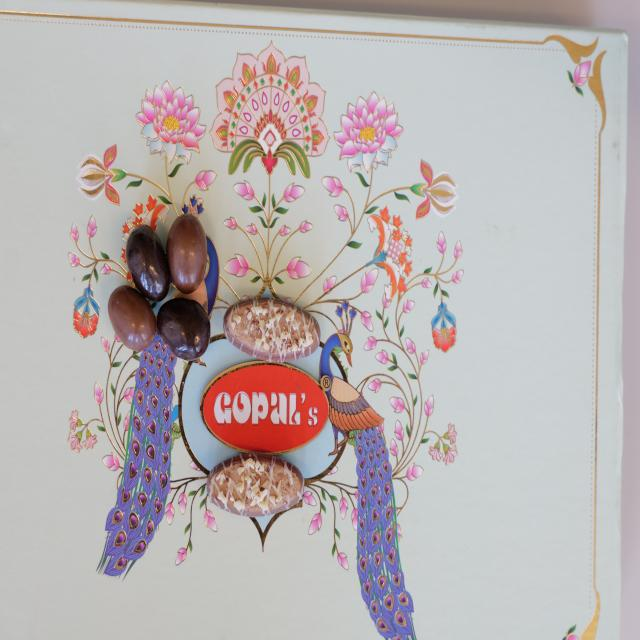Amandina: (205, 449, 304, 516), (224, 296, 321, 358)
Jelly_Black: (126, 224, 171, 301), (157, 296, 210, 360)
Jelly_Milk: (109, 283, 157, 353), (167, 213, 208, 294)
